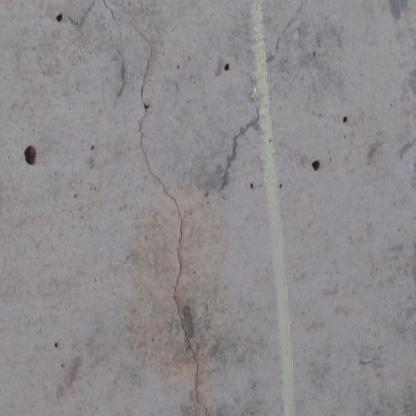Cracks: (86, 0, 215, 416)
